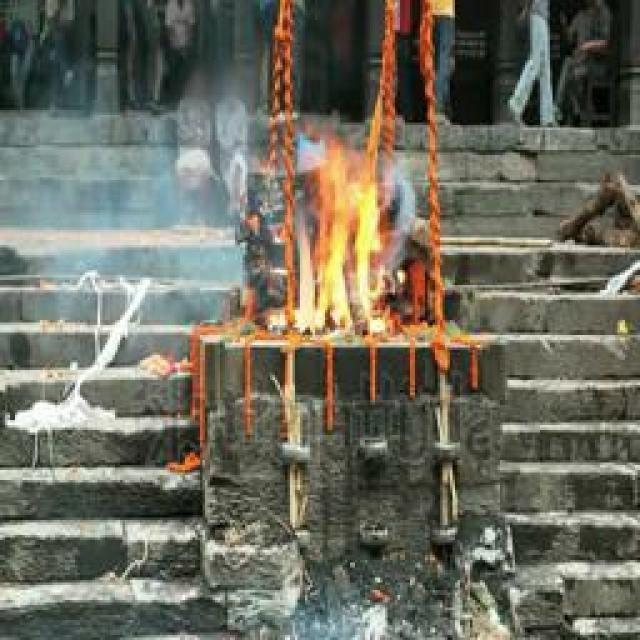Fire: (280, 133, 385, 340)
